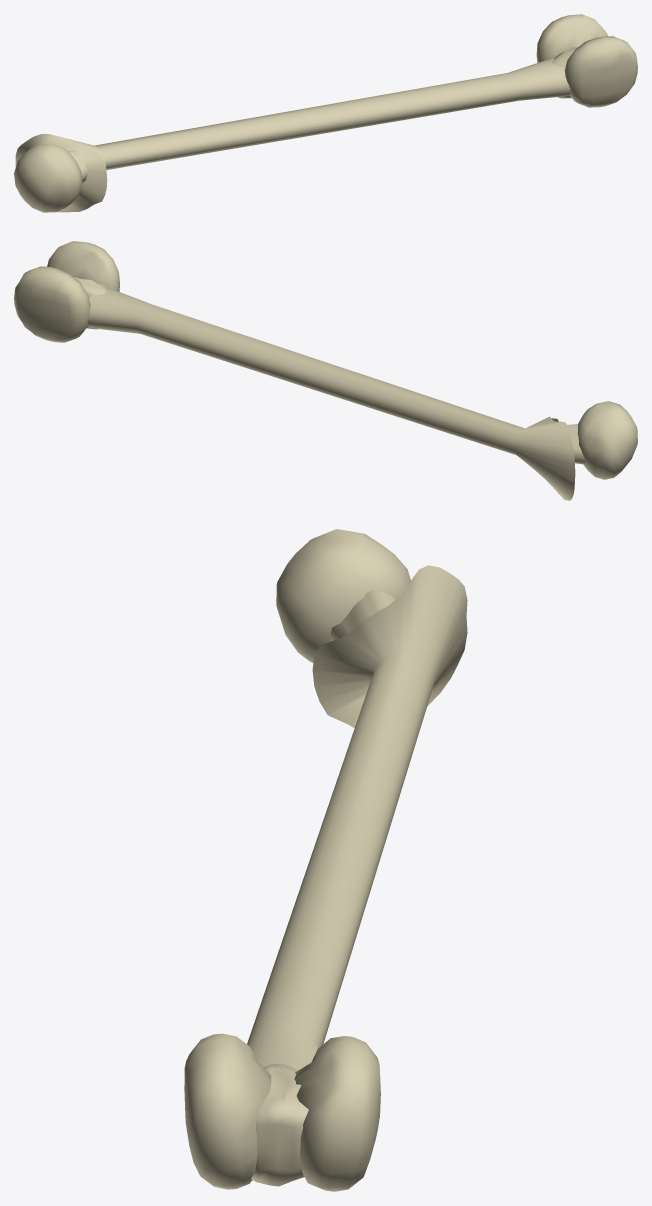
Rendered from femur.fbx.
3 views of the same model, one above another, from view 1: azimuth 30°, elevation 25°; view 2: azimuth 150°, elevation 25°; view 3: azimuth 270°, elevation 25° (orthographic). The views are drawn at different scales.
Visible parts, largest first — view 1: Cylinder; view 2: Cylinder; view 3: Cylinder.
Part boxes in pixels (x1=…): Cylinder: x1=14, y1=14, x2=637, y2=212; Cylinder: x1=14, y1=241, x2=637, y2=500; Cylinder: x1=184, y1=529, x2=467, y2=1191.
Size of the model in its own units: 25.03 by 16.68 by 119.
